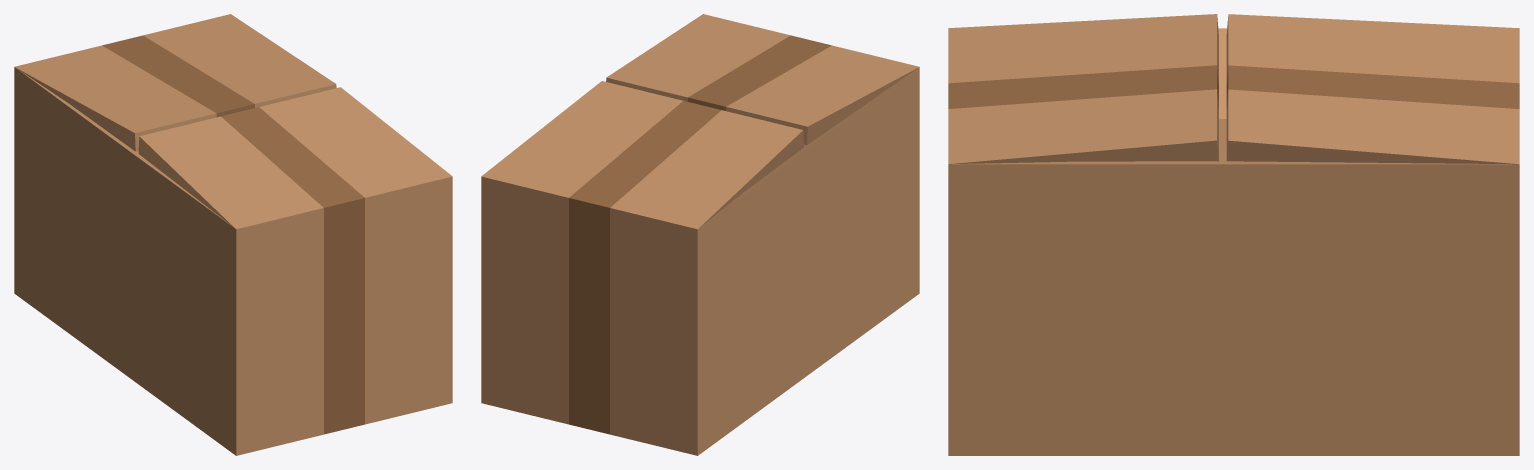
Rendered from BoxClosed2.fbx.
The picture shows the model from 3 angles, left to right: view 1: azimuth 30°, elevation 25°; view 2: azimuth 150°, elevation 25°; view 3: azimuth 270°, elevation 25°; orthographic projection. The views are drawn at different scales.
Visible parts, largest first — view 1: BoxClosed2; view 2: BoxClosed2; view 3: BoxClosed2.
Part boxes in pixels (x1,y1,x2,y2): BoxClosed2: (14,14,452,455); BoxClosed2: (481,14,919,455); BoxClosed2: (948,14,1519,455).
Size of the model in its own units: 63.12 by 67.22 by 112.
Materials: 1 (1 with a texture image).
